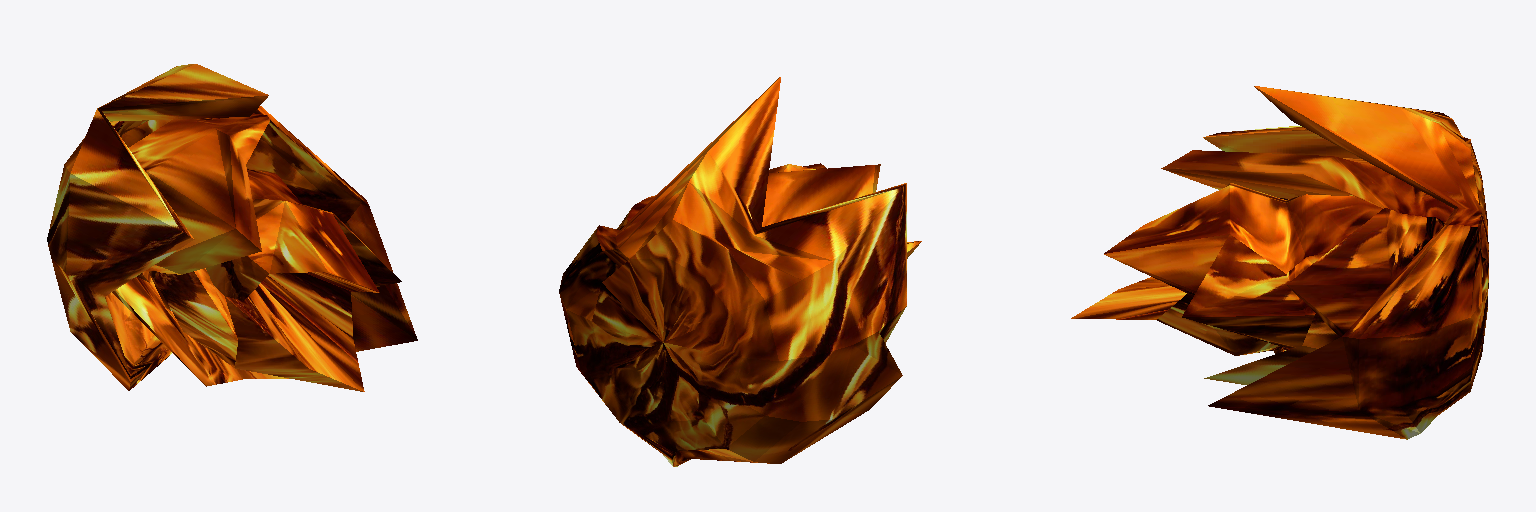
3 renders of one model, left to right at view 1: azimuth 30°, elevation 25°; view 2: azimuth 150°, elevation 25°; view 3: azimuth 270°, elevation 25°, orthographic.
Visible parts, largest first — view 1: pSphere3 locator3, pSphere1 locator1, pSphere2 locator2; view 2: pSphere3 locator3, pSphere2 locator2; view 3: pSphere3 locator3, pSphere1 locator1, pSphere2 locator2.
Boxes of the visible parts, x1=… form: pSphere3 locator3: x1=47, y1=64, x2=417, y2=390; pSphere1 locator1: x1=149, y1=169, x2=401, y2=391; pSphere2 locator2: x1=112, y1=113, x2=361, y2=386; pSphere3 locator3: x1=559, y1=77, x2=906, y2=466; pSphere2 locator2: x1=617, y1=164, x2=880, y2=229; pSphere3 locator3: x1=1203, y1=86, x2=1488, y2=439; pSphere1 locator1: x1=1071, y1=183, x2=1382, y2=355; pSphere2 locator2: x1=1161, y1=150, x2=1453, y2=384.
Size of the model in its own units: 2.57 by 2.79 by 3.1.
3 materials, 1 textured.